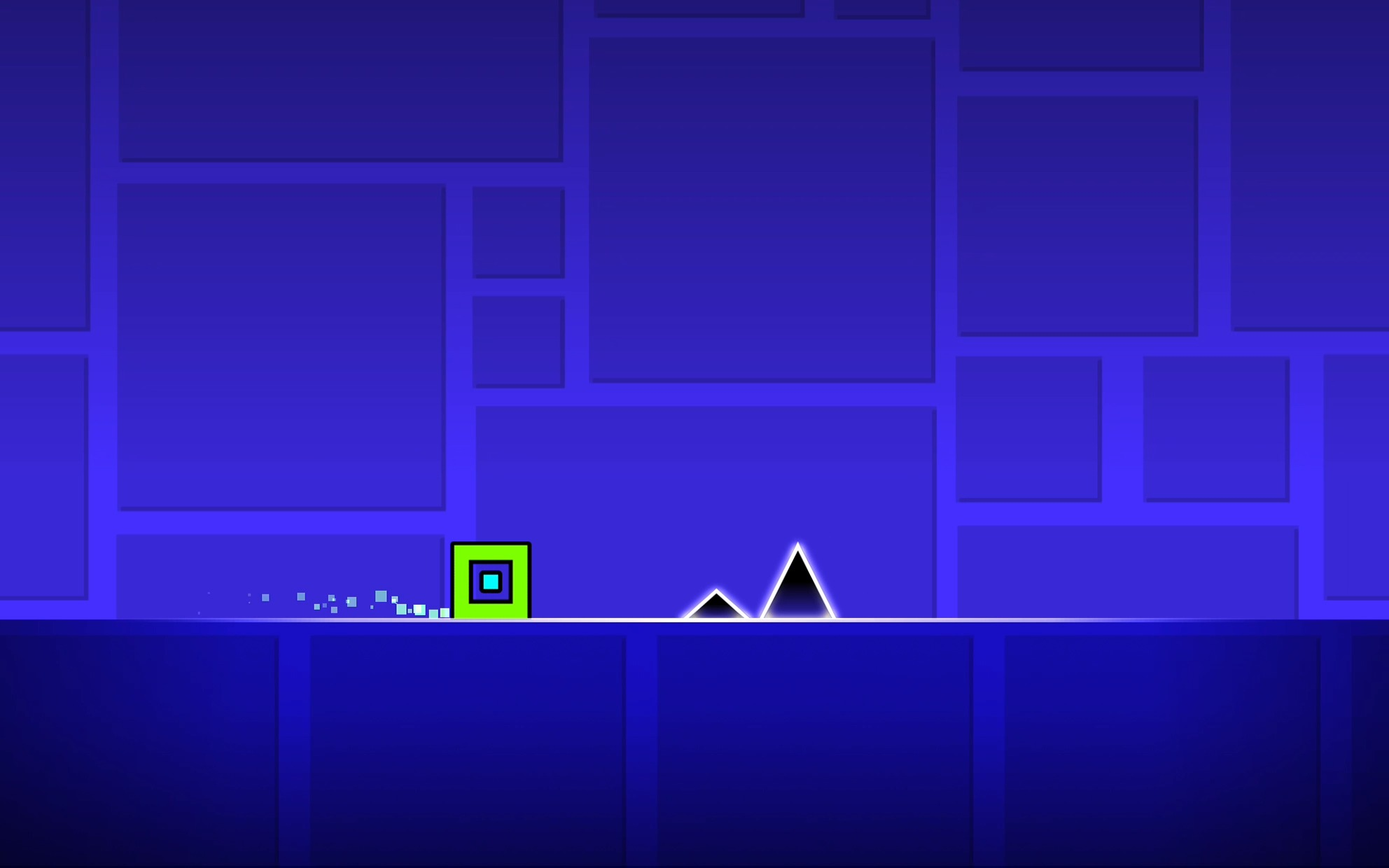Player: (449, 542, 533, 619)
Spike: (761, 546, 835, 617)
Spike2: (683, 589, 748, 618)
